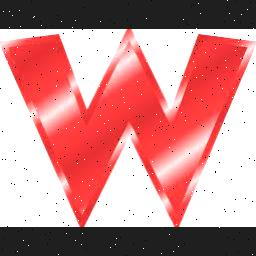w: (0, 29, 256, 227)
